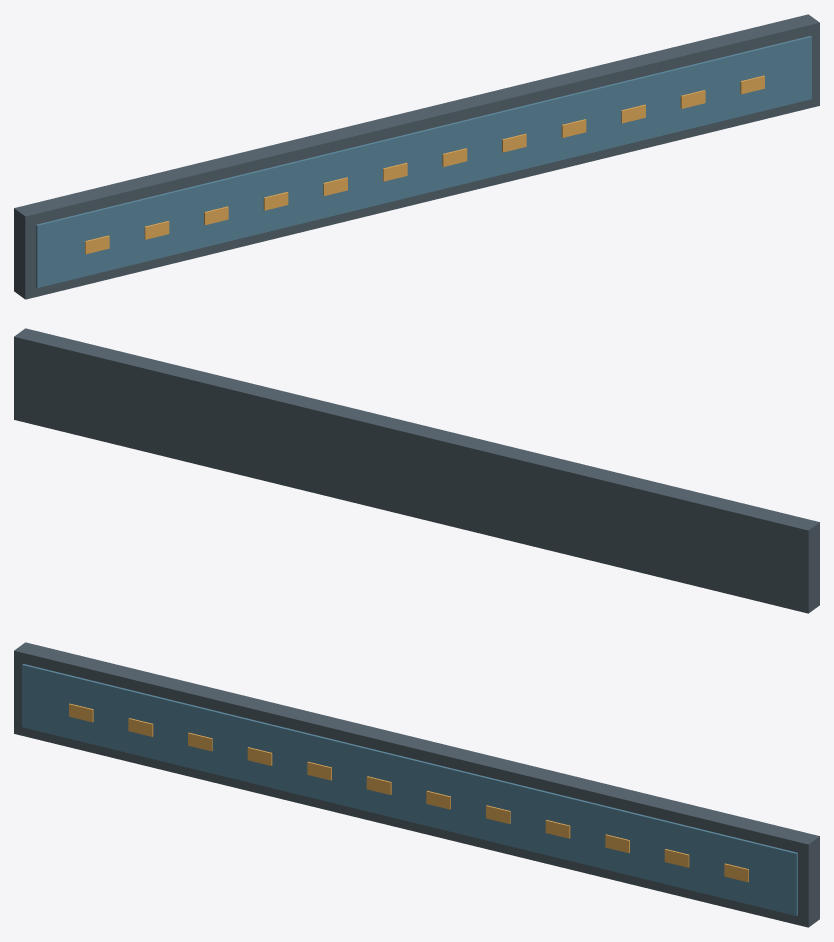
Rendered from american-football-stadium-kit-video-ribbon-edb50db1__22358.glb.
The picture shows the model from 3 angles, top to bottom: view 1: azimuth 30°, elevation 25°; view 2: azimuth 150°, elevation 25°; view 3: azimuth 330°, elevation 25°; orthographic projection.
Visible parts, largest first — view 1: video-ribbon; view 2: video-ribbon; view 3: video-ribbon.
Part boxes in pixels (x1,y1,x2,y2): video-ribbon: [14, 14, 819, 299]; video-ribbon: [14, 328, 819, 613]; video-ribbon: [14, 642, 819, 927].
Size of the model in its own units: 8 by 0.7998 by 0.2476.
